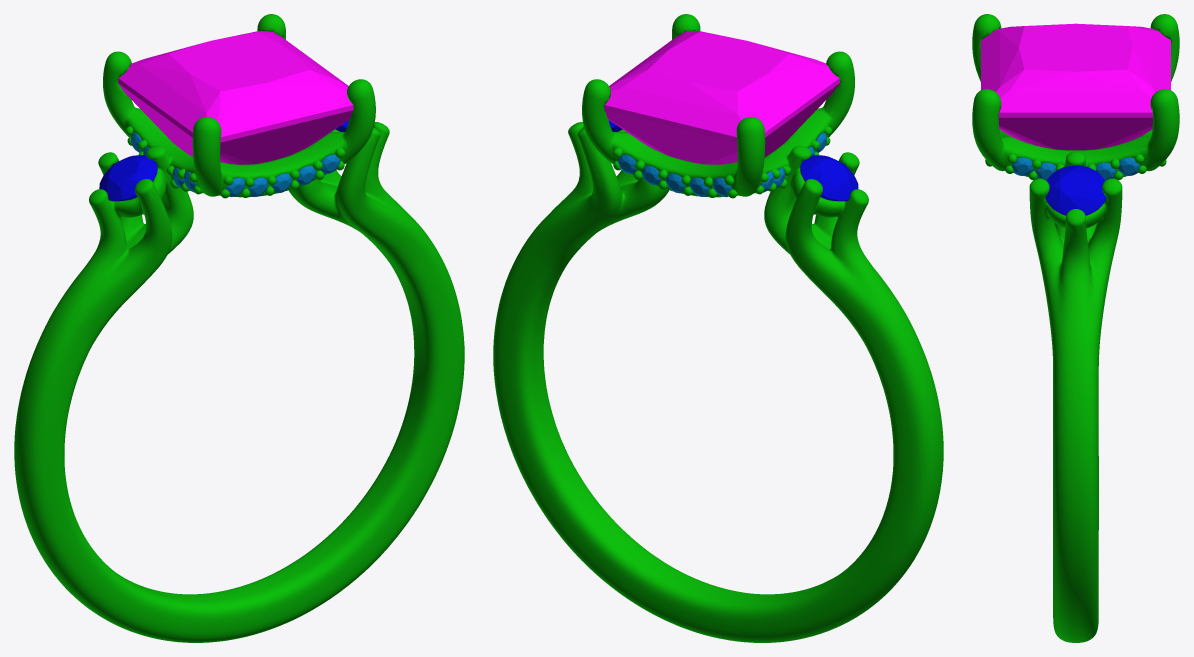
Rendered from BE1D122_PR_200ct_RENDER.glb.
3 views of the same model, side by side, from view 1: azimuth 30°, elevation 25°; view 2: azimuth 150°, elevation 25°; view 3: azimuth 270°, elevation 25° (orthographic).
Parts seen in each view (by area): view 1: Metal 01, CS_Diamond_Princess, Diamond_Round_side; view 2: Metal 01, CS_Diamond_Princess, Diamond_Round_side; view 3: Metal 01, CS_Diamond_Princess, Diamond_Round_side.001, Diamond_Round_Gem_HD.014, Diamond_Round_Gem_HD.003.
Boxes of the visible parts, box(x1,y1,x2,y2) form: Metal 01: box(14, 14, 464, 642); CS_Diamond_Princess: box(118, 31, 353, 164); Diamond_Round_side: box(99, 155, 157, 201); Metal 01: box(493, 14, 943, 642); CS_Diamond_Princess: box(604, 31, 839, 164); Diamond_Round_side: box(800, 155, 858, 201); Metal 01: box(972, 14, 1179, 642); CS_Diamond_Princess: box(981, 23, 1170, 150); Diamond_Round_side.001: box(1045, 166, 1106, 215); Diamond_Round_Gem_HD.014: box(1118, 157, 1140, 175); Diamond_Round_Gem_HD.003: box(1011, 157, 1033, 175).
Bounding box in the file's own units: 20.1 × 24.9 × 8.19.
